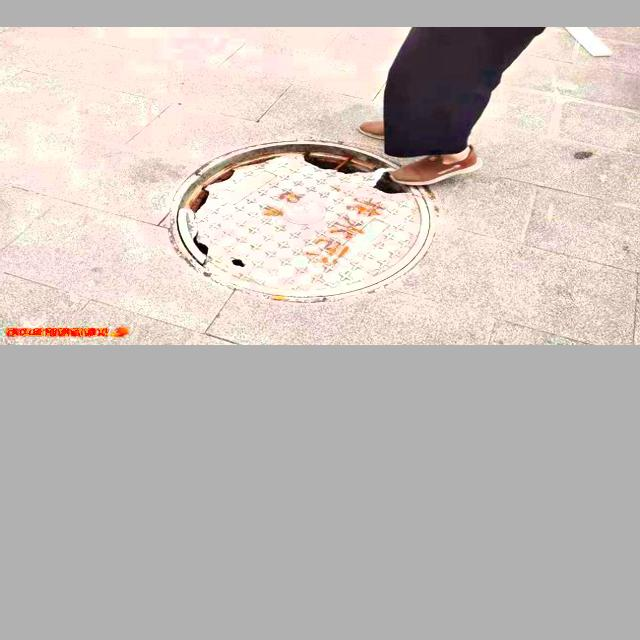broke: (154, 141, 448, 298)
